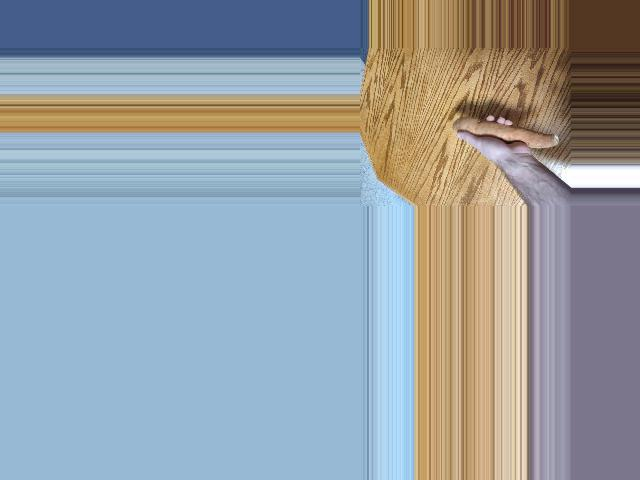sweet_potato: (453, 115, 563, 152)
